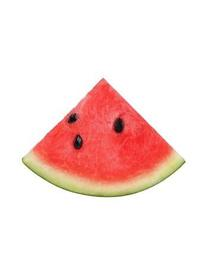watermelon: (21, 79, 188, 198)
